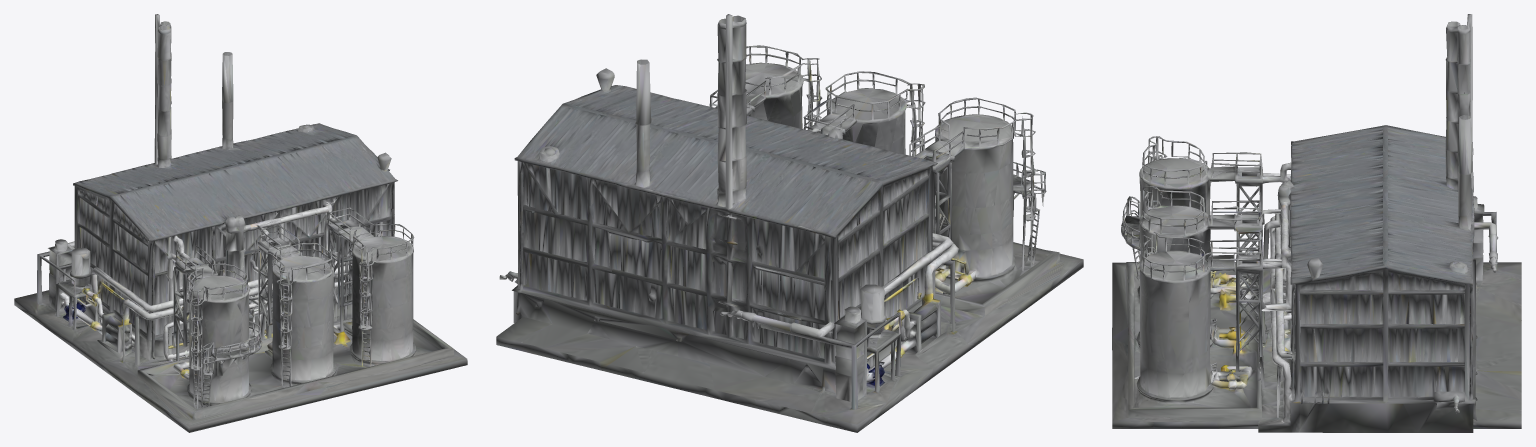
The model's file is seed-oil-refinery.glb.
The picture shows the model from 3 angles, left to right: view 1: azimuth 30°, elevation 25°; view 2: azimuth 150°, elevation 25°; view 3: azimuth 270°, elevation 25°; orthographic projection. The views are drawn at different scales.
Parts seen in each view (by area): view 1: Mesh_0; view 2: Mesh_0; view 3: Mesh_0.
Part boxes in pixels (<box>): Mesh_0: <box>14,14,467,432</box>; Mesh_0: <box>496,14,1083,432</box>; Mesh_0: <box>1112,14,1521,432</box>.
Size of the model in its own units: 12.6 by 11 by 12.61.
1 material, 1 textured.
